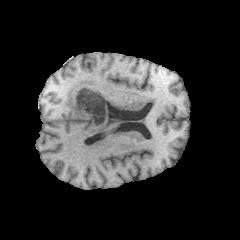glioma: (65, 79, 123, 140)
